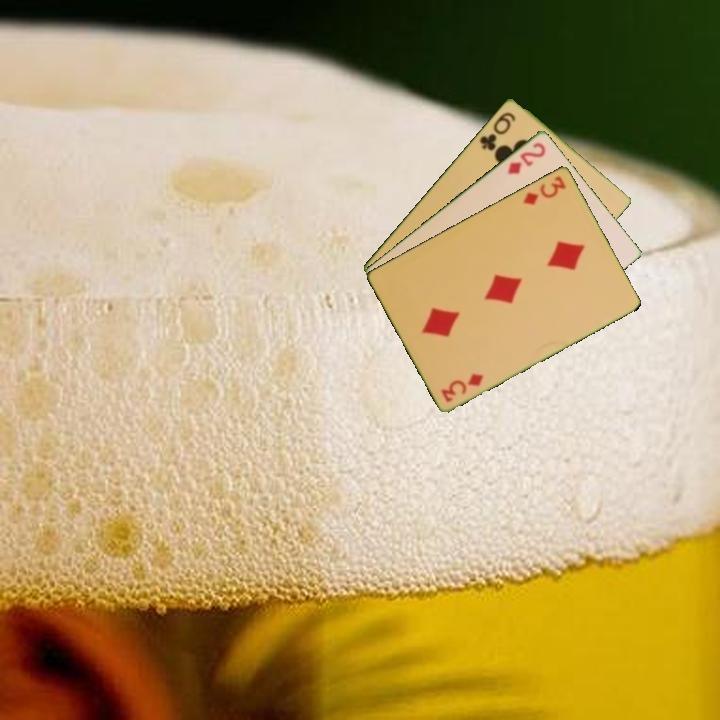2d: (504, 138, 549, 177)
3d: (437, 369, 487, 405), (520, 172, 569, 208)
6c: (476, 108, 518, 154)
